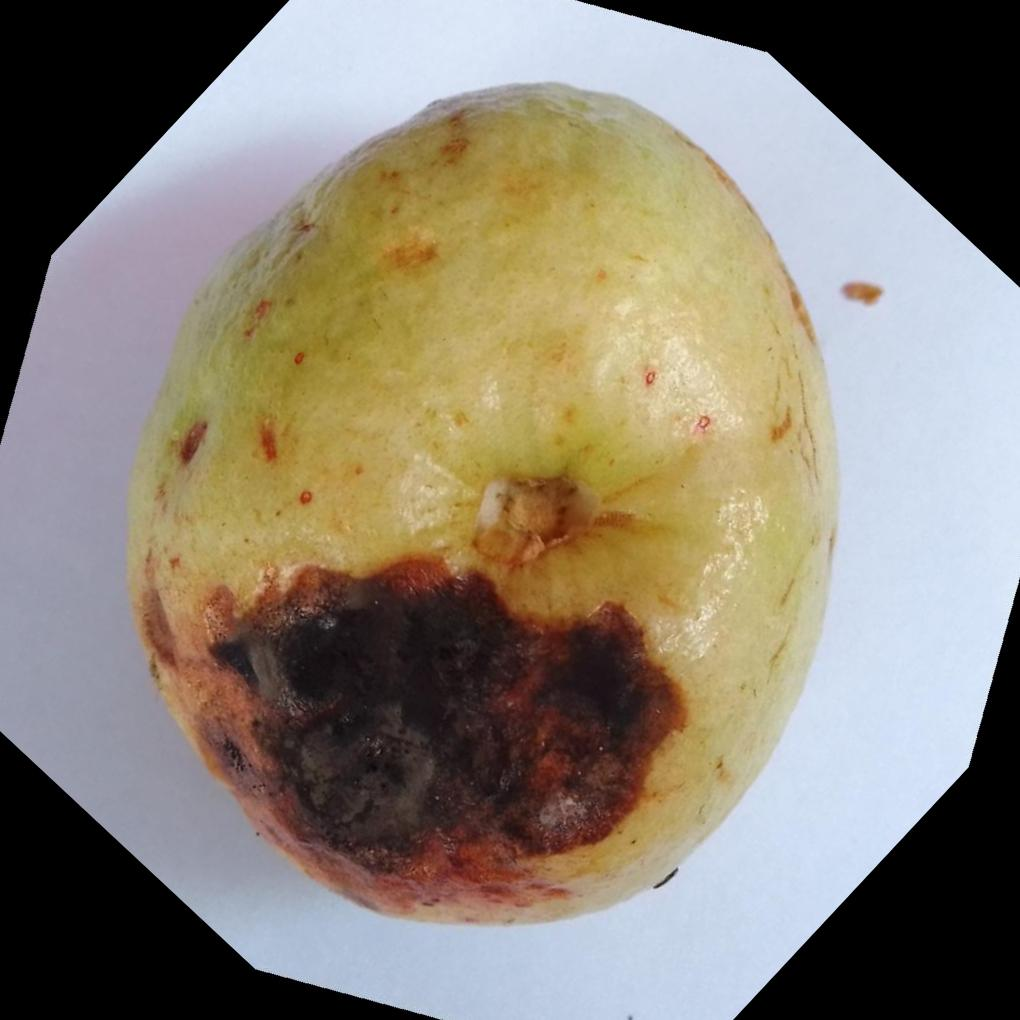FreshOrange: (118, 80, 839, 931)
